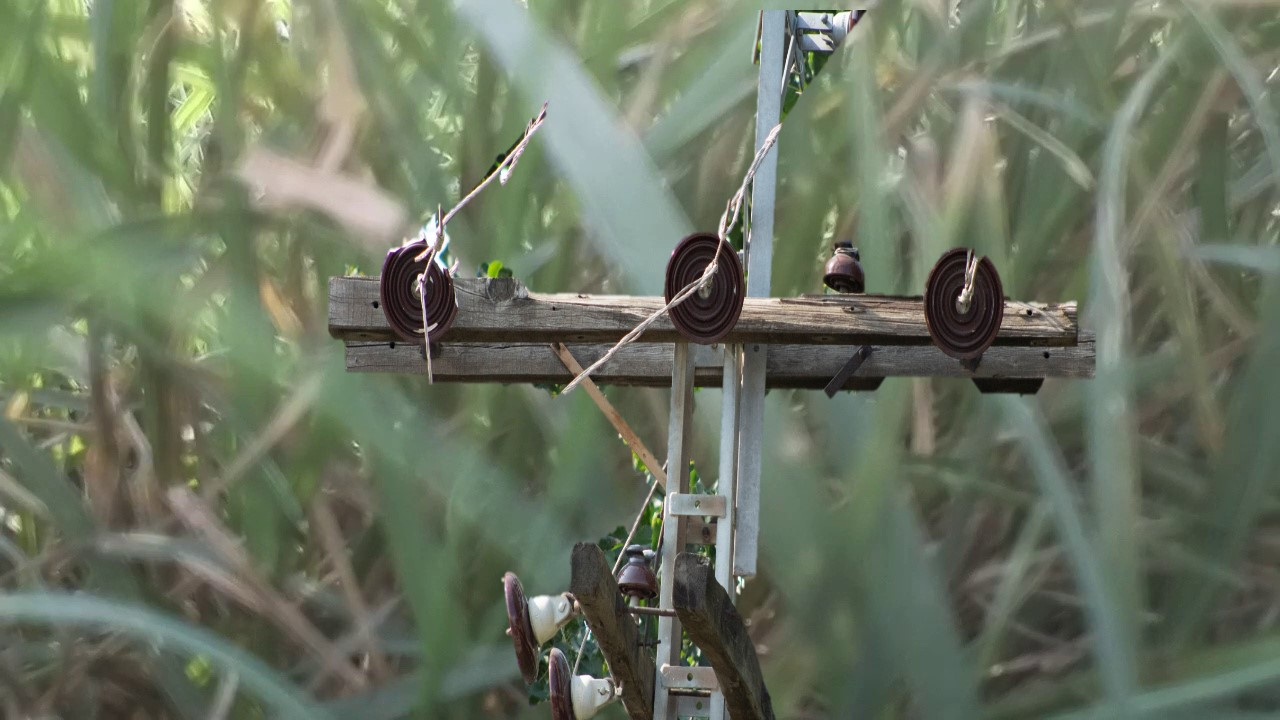defect_disc: (376, 233, 464, 354)
insulator_disc: (923, 243, 1008, 367), (662, 227, 750, 346), (494, 570, 548, 687)
insulator_pin: (614, 542, 665, 606), (819, 234, 868, 297)
